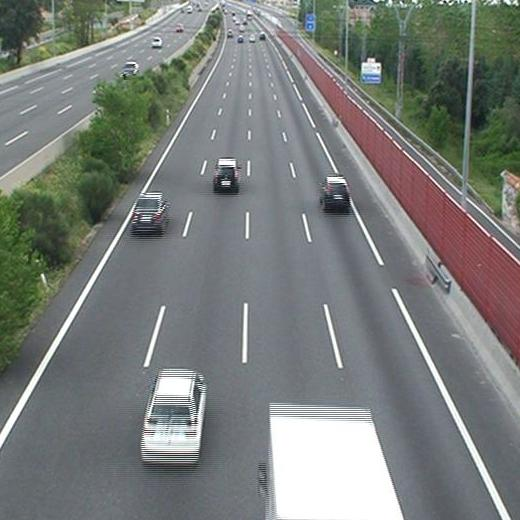car: (140, 376, 204, 458), (132, 195, 166, 229), (320, 177, 350, 211), (213, 159, 239, 192)
